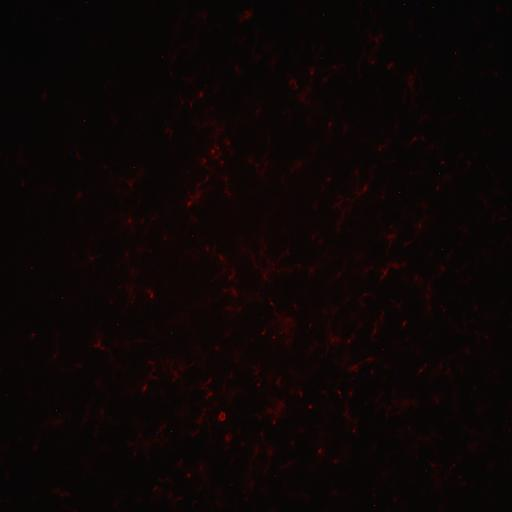microglia: (193, 174, 209, 198), (406, 70, 418, 97), (425, 277, 433, 315), (330, 192, 346, 210), (225, 267, 241, 284), (307, 228, 323, 245), (222, 287, 241, 301), (50, 488, 72, 500), (297, 90, 312, 106), (209, 146, 223, 160), (290, 158, 304, 172), (362, 262, 374, 278), (337, 211, 346, 232), (389, 260, 406, 271), (94, 339, 106, 354), (155, 420, 167, 435), (216, 407, 227, 423), (224, 175, 231, 200), (252, 364, 262, 380), (413, 272, 423, 288), (203, 374, 215, 387), (281, 460, 294, 472), (328, 332, 339, 346), (343, 400, 350, 421), (336, 266, 344, 284), (129, 266, 140, 279), (369, 323, 379, 337), (284, 316, 294, 330), (204, 390, 216, 401), (258, 325, 268, 338), (166, 126, 174, 142), (402, 238, 413, 249), (281, 248, 293, 258), (386, 403, 393, 420), (278, 399, 284, 418), (290, 78, 298, 92), (428, 462, 442, 470), (141, 382, 150, 394), (226, 432, 234, 445), (387, 234, 395, 247), (243, 10, 253, 20), (127, 178, 136, 189), (204, 242, 211, 256), (379, 310, 386, 324), (308, 65, 316, 77), (433, 394, 441, 406), (198, 460, 204, 476), (189, 430, 201, 438), (51, 348, 59, 360), (190, 213, 198, 225), (130, 291, 136, 307), (52, 418, 64, 426), (75, 188, 83, 200), (273, 262, 281, 274), (147, 291, 156, 301), (217, 252, 226, 262), (223, 138, 232, 148), (161, 233, 171, 242), (126, 282, 132, 297), (20, 177, 28, 188), (250, 475, 255, 492), (147, 374, 159, 381), (177, 456, 184, 468), (450, 461, 456, 475), (214, 343, 222, 353), (149, 215, 159, 223), (235, 304, 243, 314), (254, 410, 262, 420), (438, 303, 446, 313), (254, 106, 262, 116), (446, 366, 451, 381), (186, 200, 194, 209), (30, 329, 36, 341), (222, 306, 234, 312), (234, 65, 242, 74), (146, 366, 156, 373), (473, 302, 480, 312), (332, 61, 339, 71), (228, 369, 234, 380), (298, 426, 306, 434), (75, 362, 83, 370), (176, 495, 184, 503), (80, 418, 88, 426), (196, 417, 205, 424), (123, 250, 130, 259), (388, 62, 394, 72), (276, 376, 282, 386), (462, 348, 472, 354), (152, 484, 159, 492), (100, 405, 104, 419), (31, 445, 39, 452), (444, 173, 451, 181), (262, 272, 268, 281), (326, 174, 331, 184), (347, 337, 352, 347), (146, 360, 156, 365), (167, 490, 172, 500), (269, 300, 276, 307), (289, 439, 296, 446), (127, 216, 133, 224), (201, 157, 207, 165), (189, 100, 195, 108), (328, 121, 334, 129), (370, 58, 376, 66), (383, 268, 389, 276), (254, 446, 258, 458), (266, 450, 274, 456), (86, 409, 92, 417), (199, 91, 204, 100), (403, 321, 409, 328), (417, 368, 424, 374), (271, 419, 278, 425), (171, 378, 178, 384), (240, 441, 246, 448), (186, 472, 191, 480), (363, 184, 368, 192), (362, 293, 372, 297), (293, 302, 298, 310), (318, 447, 323, 455), (267, 406, 272, 414), (172, 371, 180, 376), (140, 216, 144, 226), (192, 501, 200, 506), (492, 212, 497, 220), (439, 362, 443, 371), (442, 264, 447, 271), (309, 268, 314, 275), (351, 363, 358, 368), (298, 390, 303, 397), (375, 36, 379, 44), (297, 262, 301, 270), (324, 74, 328, 82), (90, 255, 95, 261), (412, 136, 417, 142), (368, 357, 374, 362), (352, 428, 357, 434), (337, 390, 342, 396), (502, 217, 508, 222), (355, 169, 359, 176), (378, 146, 382, 153), (349, 391, 353, 398), (256, 162, 259, 171), (133, 452, 138, 457), (440, 159, 444, 165), (418, 224, 422, 230), (272, 335, 276, 341), (256, 382, 262, 386), (371, 369, 375, 375), (110, 299, 114, 305), (94, 432, 98, 438), (484, 336, 490, 340), (355, 368, 359, 373), (260, 433, 264, 438), (95, 424, 99, 429), (458, 474, 463, 478), (309, 322, 312, 328), (309, 404, 312, 410), (230, 483, 234, 487), (246, 496, 248, 504), (334, 459, 337, 464), (436, 186, 439, 190)
